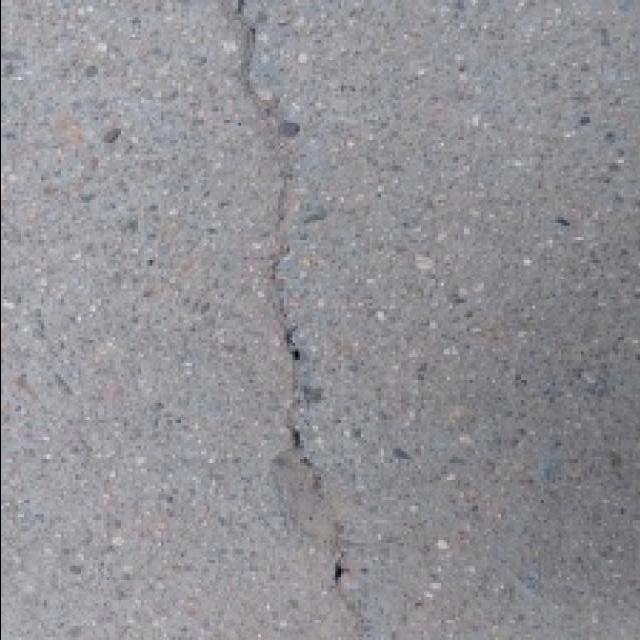SurfaceCrack: (200, 0, 394, 640)
